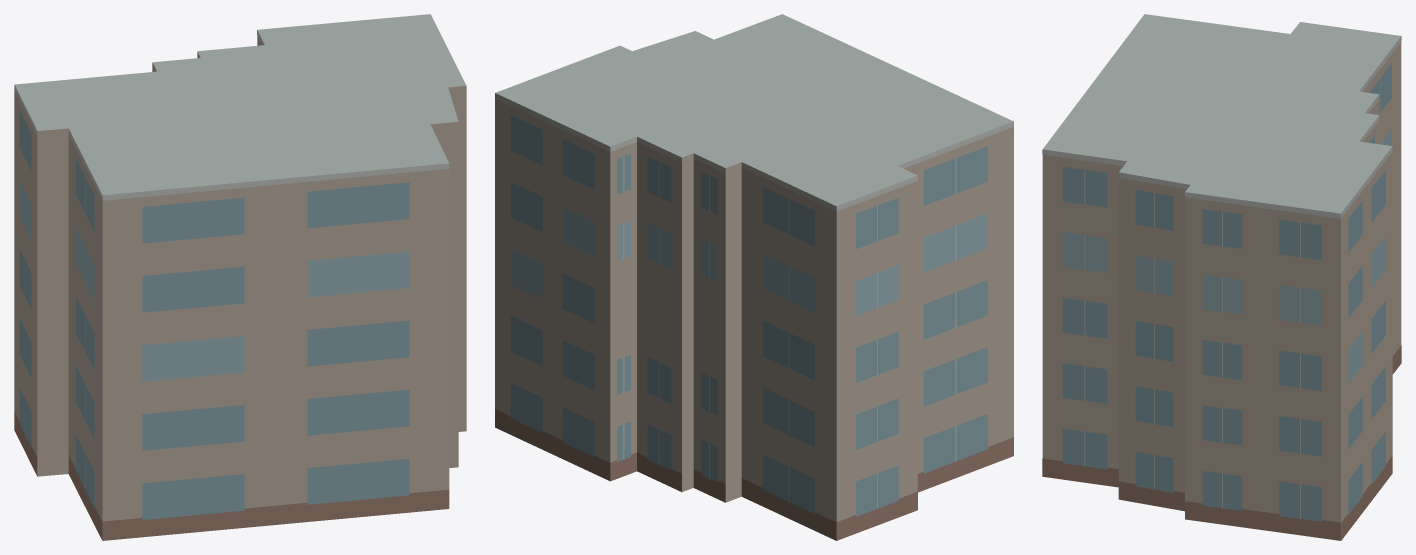
Rendered from survey-upis-32726339.glb.
3 renders of one model, left to right at view 1: azimuth 30°, elevation 25°; view 2: azimuth 150°, elevation 25°; view 3: azimuth 270°, elevation 25°, orthographic. The views are drawn at different scales.
Visible parts, largest first — view 1: survey-upis-32726339.tmp; view 2: survey-upis-32726339.tmp; view 3: survey-upis-32726339.tmp.
Boxes of the visible parts, bbox=[...] form: survey-upis-32726339.tmp: bbox=[14, 14, 466, 540]; survey-upis-32726339.tmp: bbox=[495, 14, 1013, 540]; survey-upis-32726339.tmp: bbox=[1042, 14, 1401, 540].
Bounding box in the file's own units: 20.16 × 15.4 × 15.32.
